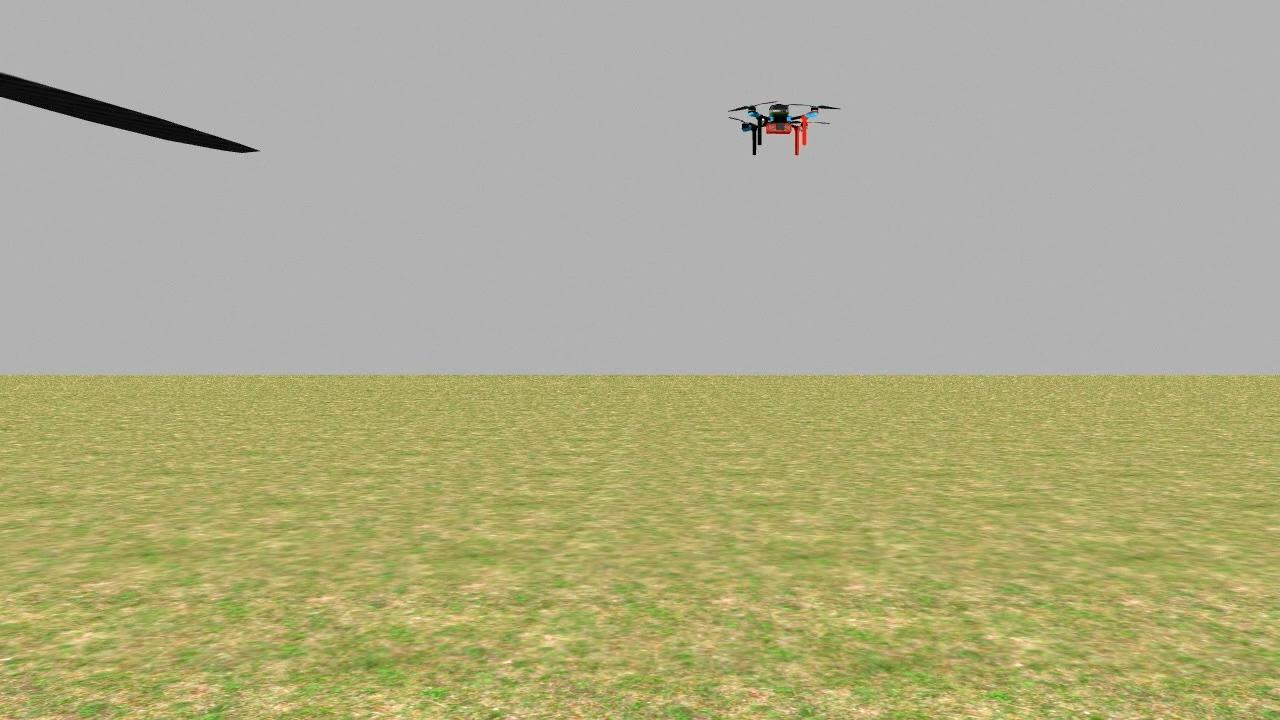UAV: (705, 78, 851, 169)
